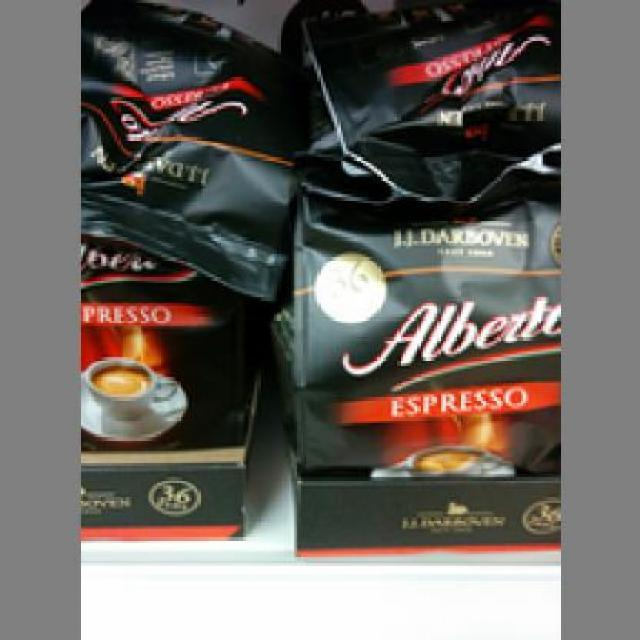Coffee: (286, 57, 554, 477), (73, 208, 250, 454)
